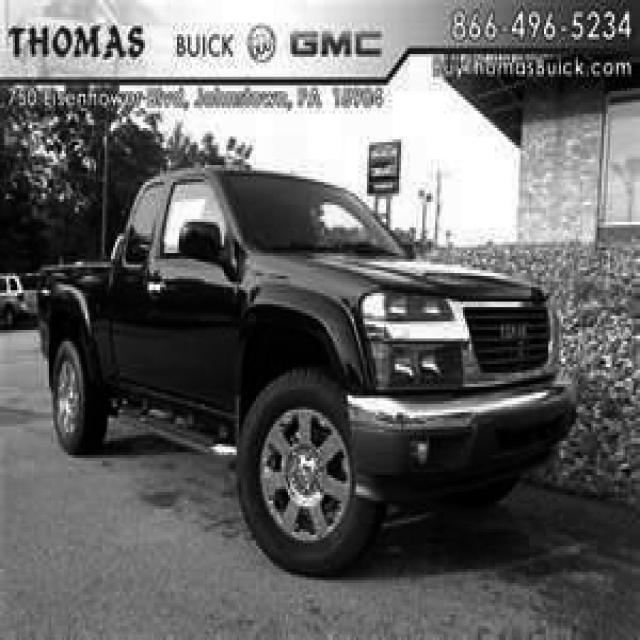car: (34, 159, 576, 575)
